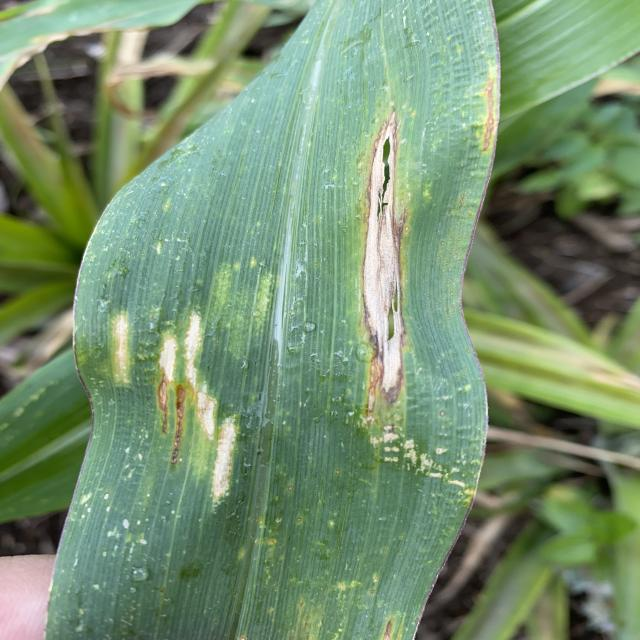Corn_Leaf_Blight: (68, 28, 502, 640)
